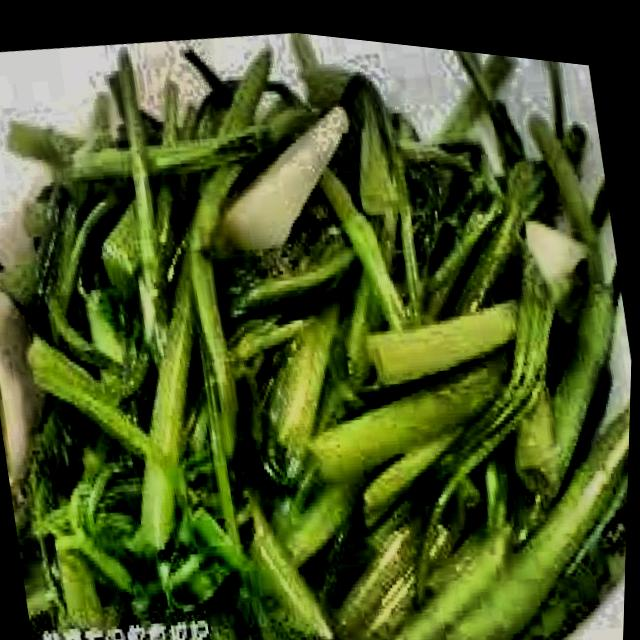Food: (0, 32, 608, 640)
